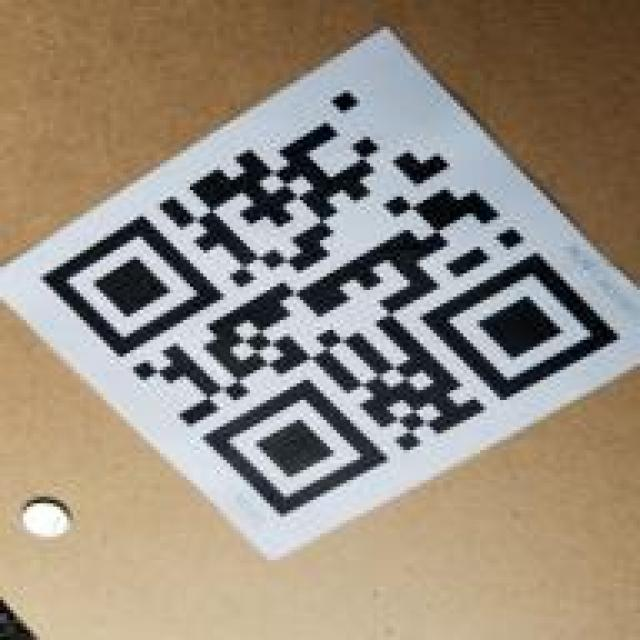qr_code: (40, 89, 617, 515)
